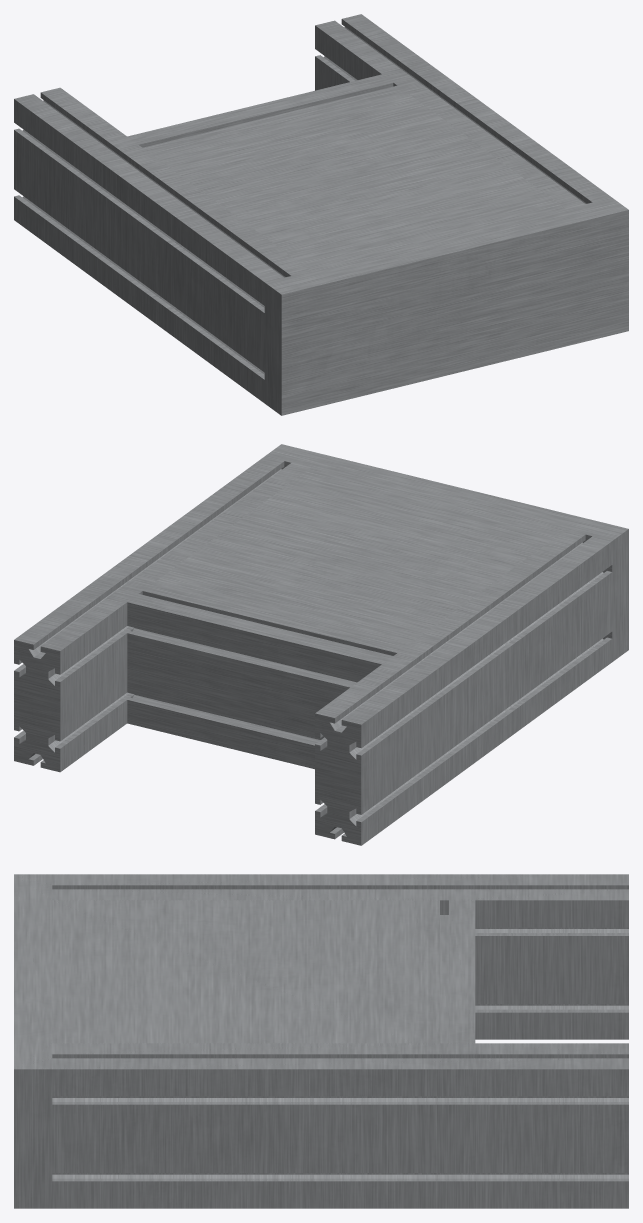
The model's file is voltage_testing_stand.glb.
The picture shows the model from 3 angles, top to bottom: view 1: azimuth 30°, elevation 25°; view 2: azimuth 150°, elevation 25°; view 3: azimuth 270°, elevation 25°; orthographic projection. The views are drawn at different scales.
Parts seen in each view (by area): view 1: voltage_testing_stand.SLDPRT; view 2: voltage_testing_stand.SLDPRT; view 3: voltage_testing_stand.SLDPRT.
Part boxes in pixels (box(x1,y1,x2,y2)): voltage_testing_stand.SLDPRT: box(14, 14, 628, 415); voltage_testing_stand.SLDPRT: box(14, 444, 628, 845); voltage_testing_stand.SLDPRT: box(14, 874, 628, 1208).
Bounding box in the file's own units: 0.3 × 0.1 × 0.4.
Materials: 2 (2 with a texture image).
